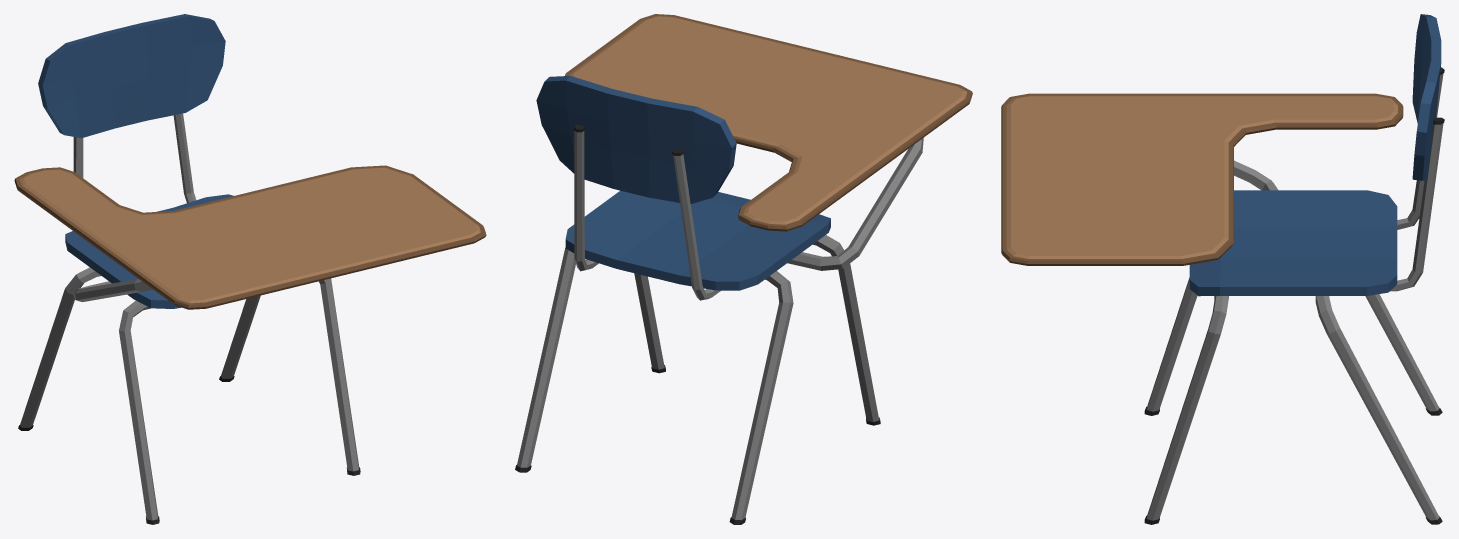
The model's file is Int_DeskChair01_1.fbx.
3 renders of one model, left to right at view 1: azimuth 30°, elevation 25°; view 2: azimuth 150°, elevation 25°; view 3: azimuth 270°, elevation 25°, orthographic. The views are drawn at different scales.
Visible parts, largest first — view 1: Int_DeskChair01_1; view 2: Int_DeskChair01_1; view 3: Int_DeskChair01_1.
Part boxes in pixels (<box>): Int_DeskChair01_1: <box>14,14,486,524</box>; Int_DeskChair01_1: <box>515,14,972,524</box>; Int_DeskChair01_1: <box>1001,14,1444,524</box>.
Size of what is drawn, in the model's own units: 95.63 by 107 by 111.
